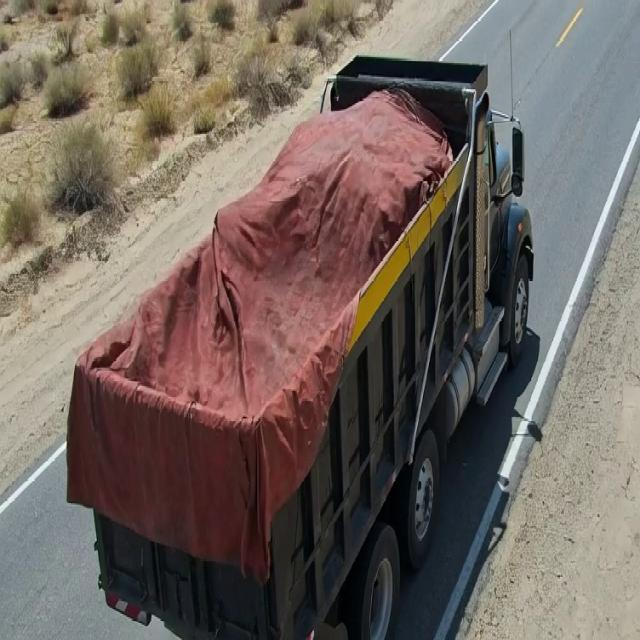trailer: (73, 60, 518, 442)
truck: (55, 42, 527, 616)
